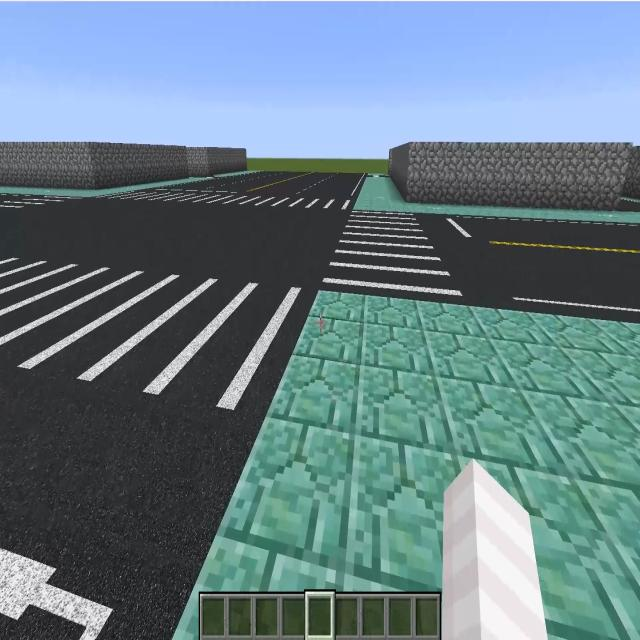crosswalk: (0, 236, 318, 423), (317, 210, 470, 306), (107, 187, 350, 215), (0, 194, 71, 225)
road: (0, 363, 256, 636), (9, 199, 344, 270), (428, 216, 640, 316), (200, 173, 359, 193)
sidewalk: (173, 292, 640, 639), (354, 176, 640, 225), (0, 178, 204, 197), (215, 170, 259, 178)
